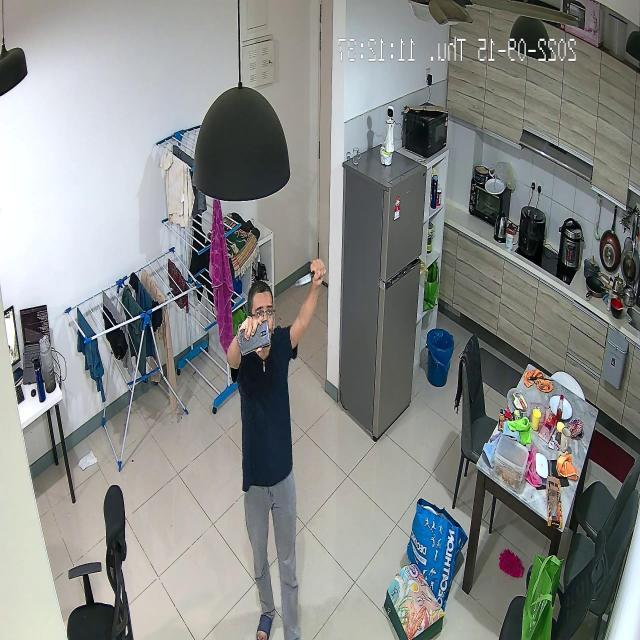Knife: (288, 254, 331, 298)
